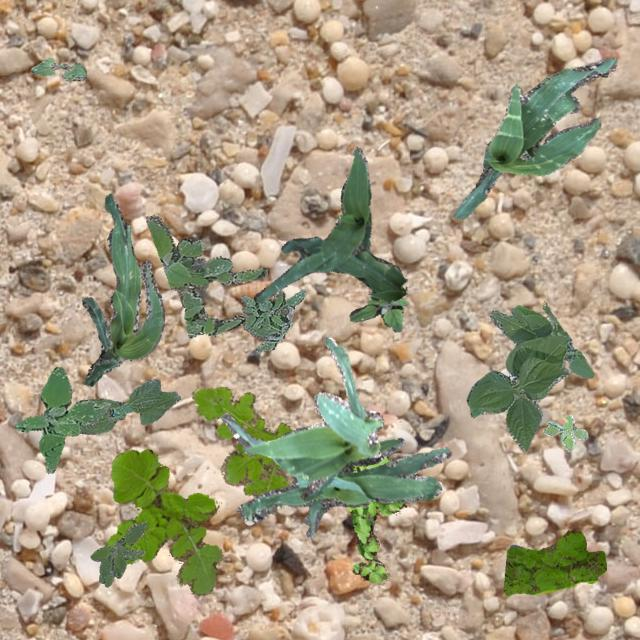crop: (220, 336, 382, 500), (452, 56, 616, 218), (252, 146, 406, 302), (235, 437, 450, 538), (466, 304, 594, 449), (80, 192, 164, 386), (78, 378, 180, 434), (30, 56, 86, 80)
weed: (104, 448, 222, 594), (146, 214, 266, 336), (190, 386, 292, 496), (15, 366, 110, 472), (346, 456, 404, 584), (502, 530, 606, 594), (240, 288, 306, 350), (90, 520, 146, 586), (348, 296, 408, 331), (542, 414, 586, 451)
